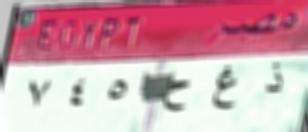4: (66, 76, 90, 110)
5: (103, 76, 133, 109)
7: (25, 75, 57, 111)
7aa: (159, 73, 195, 116)
ghayn: (208, 61, 241, 115)
zaal: (257, 56, 292, 99)
